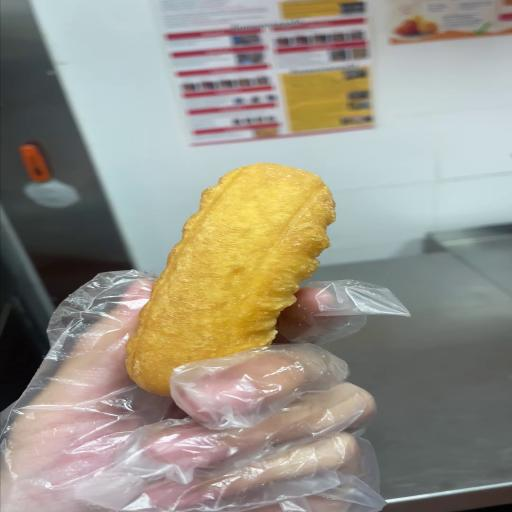brand_golden_good: (126, 163, 335, 395)
